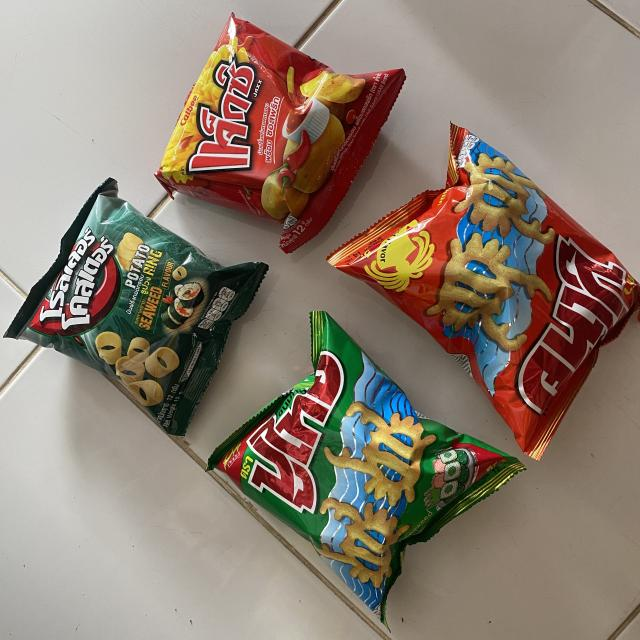plastik: (328, 124, 640, 459), (208, 311, 525, 622), (5, 179, 268, 435), (155, 15, 405, 252)
